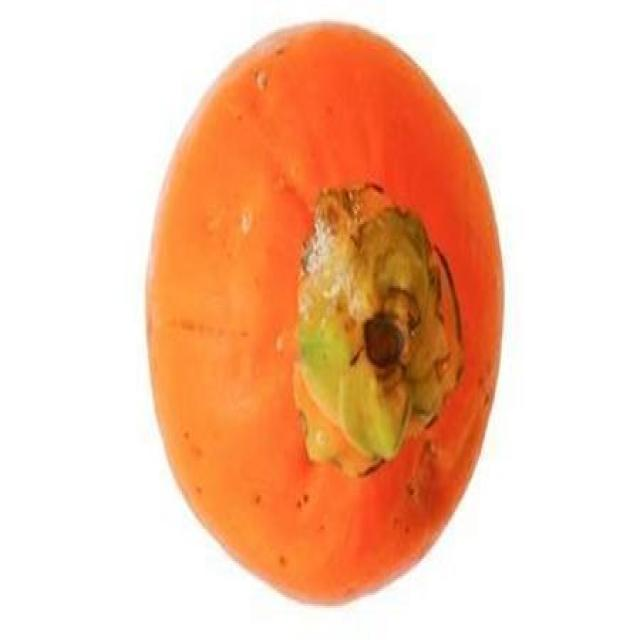good: (142, 23, 506, 608)
